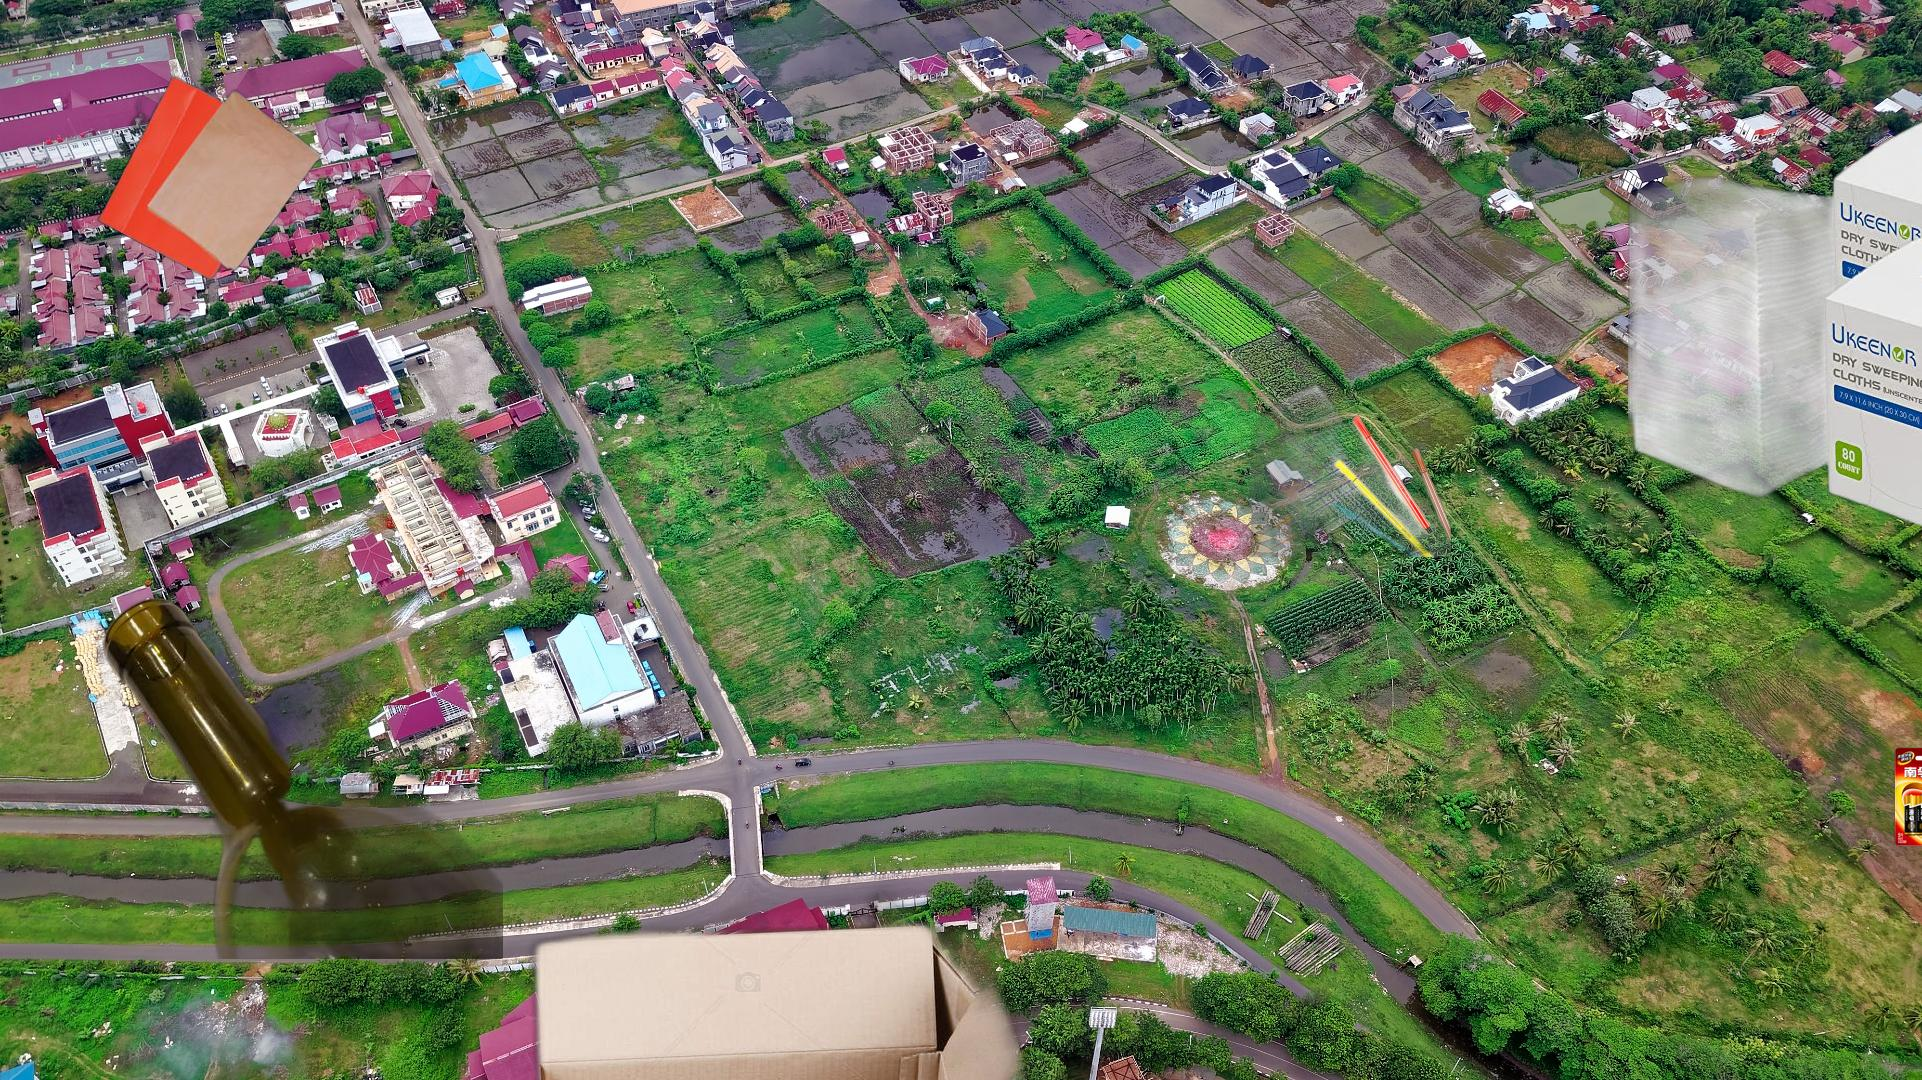battery: (1892, 745, 1922, 849)
glass: (99, 594, 503, 959)
paper-bag: (48, 49, 323, 349)
penholder: (1251, 356, 1451, 557)
trashbox-cardboard: (366, 367, 1266, 1080), (1628, 115, 1922, 553)
